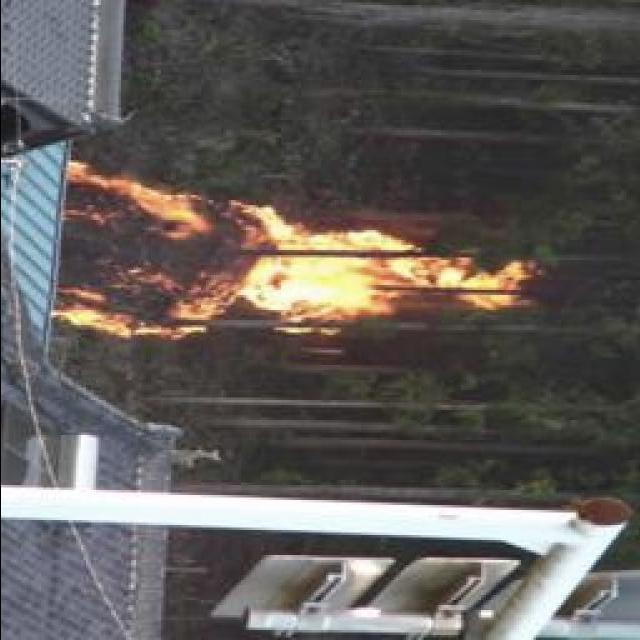Fire: (59, 168, 534, 341)
